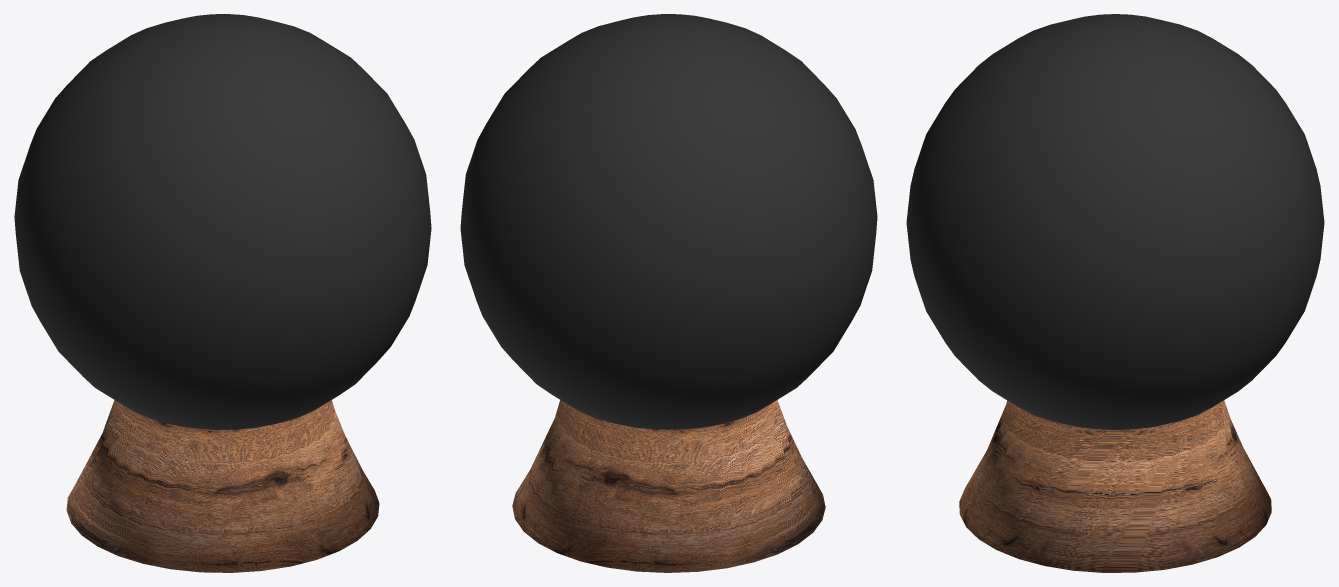
File: crystal_ball.glb
3 renders of one model, left to right at view 1: azimuth 30°, elevation 25°; view 2: azimuth 150°, elevation 25°; view 3: azimuth 270°, elevation 25°, orthographic.
Visible parts, largest first — view 1: Esfera UV.002_1, object 1; view 2: Esfera UV.002_1, object 1; view 3: Esfera UV.002_1, object 1.
Boxes of the visible parts, left/top/right/bottom form: Esfera UV.002_1: left=14, top=14, right=431, bottom=429; object 1: left=66, top=400, right=379, bottom=572; Esfera UV.002_1: left=460, top=14, right=877, bottom=429; object 1: left=512, top=400, right=825, bottom=572; Esfera UV.002_1: left=906, top=14, right=1324, bottom=429; object 1: left=959, top=400, right=1271, bottom=572.
Bounding box in the file's own units: 2 × 2.58 × 2.
Materials: 2 (1 with a texture image).
